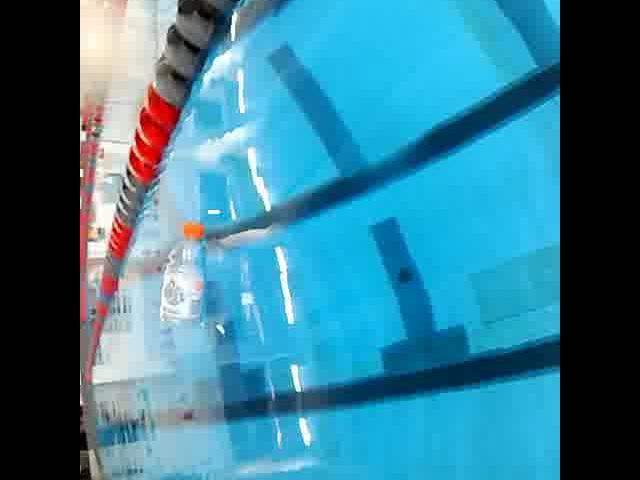Bottle: (149, 212, 213, 348)
